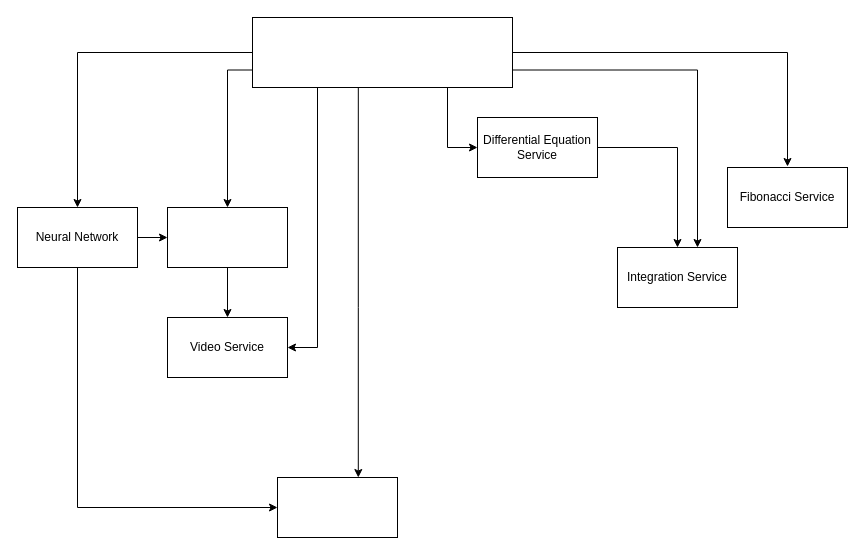
Image size: 865x555. Some labels were removed from this diagram. The shapes that lost their labels are listed below. From the top down, each one's centre as x and y in pixels, then its label:
At [382,52]: "Gateway".
At [227,237]: "Filter Service".
At [337,507]: "Permutation Service".
